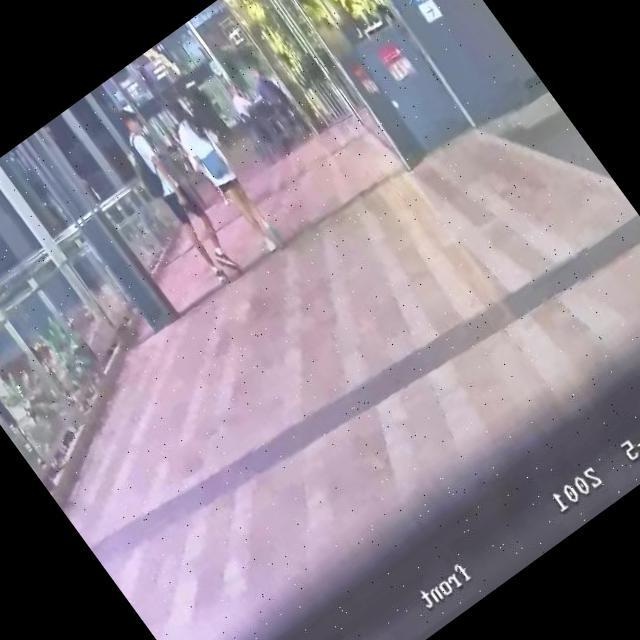person: (102, 101, 249, 286), (157, 94, 290, 261), (218, 76, 288, 163), (242, 59, 310, 142)
